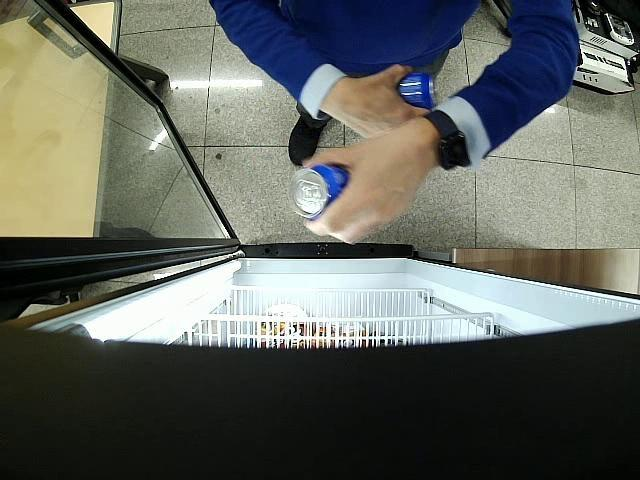13_pocariSweat: (288, 162, 350, 220), (396, 72, 434, 110)
